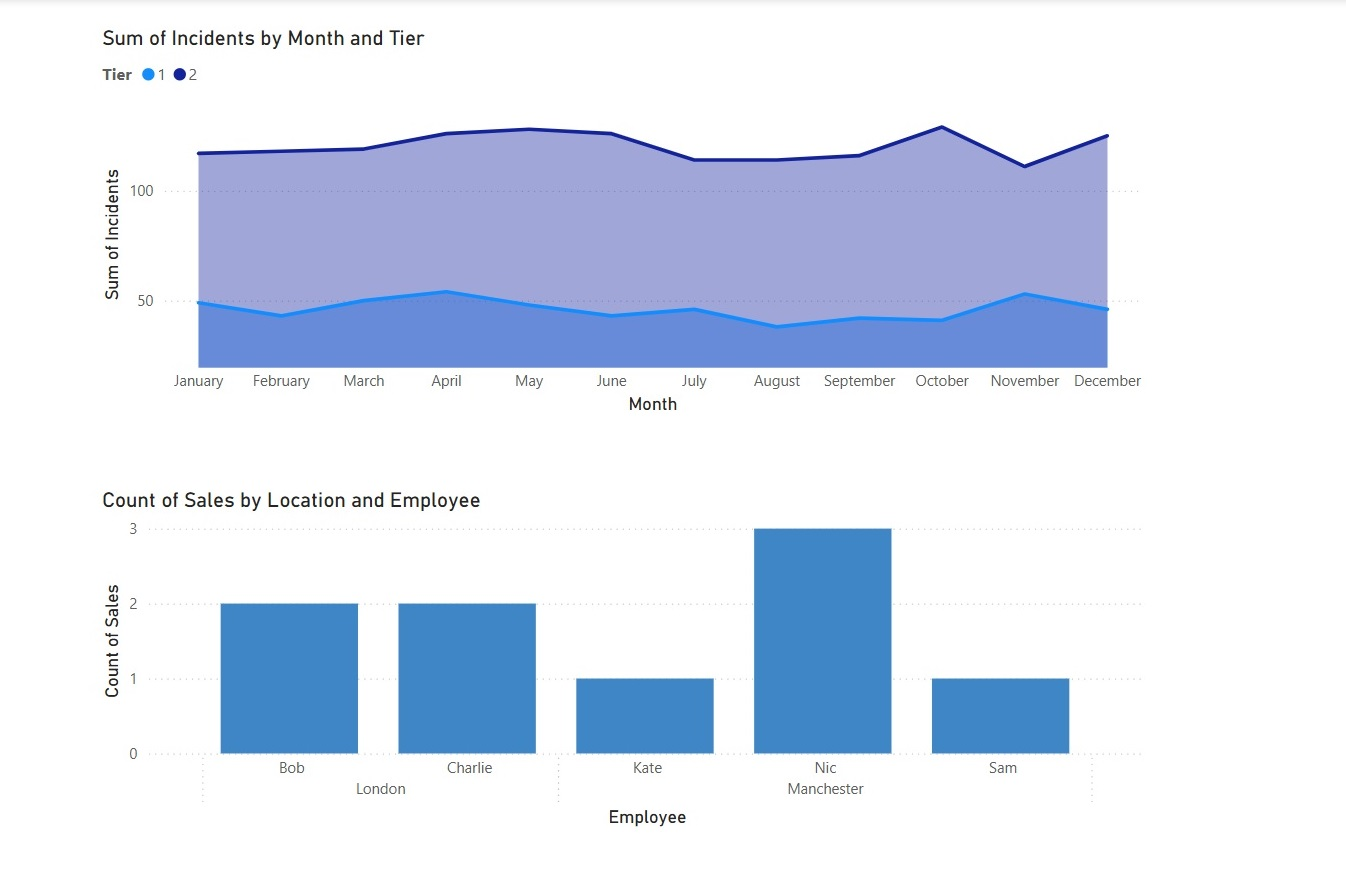

The dashboard page shown, as its layout file describes it:
{"tool":"powerbi","page":{"name":"Page 1","canvas":[1280,720],"ordinal":0},"visuals":[{"type":"areaChart","fields":{"Category":["Resolved Incidents.Month"],"Y":["Resolved Incidents.Incidents"],"Series":["Resolved Incidents.Tier"]},"box":[138.2,22.7,857.8,320],"z":0},{"type":"clusteredColumnChart","fields":{"Category":["Sales.Location","Sales.Employee"],"Y":["Sales.Sales"]},"box":[138.2,397.6,857.8,280.2],"z":1}]}

Visuals, with their boxes on the page's 1280x720 design canvas (x1, y1, x2, y2). These are canvas units, not pixel positions in the 1346x870 screenshot, which may show the page scaled, cropped or inside an application window:
areaChart - Resolved Incidents.Month x Resolved Incidents.Incidents: bbox=[138, 23, 996, 343]
clusteredColumnChart - Sales.Location x Sales.Employee: bbox=[138, 398, 996, 678]
